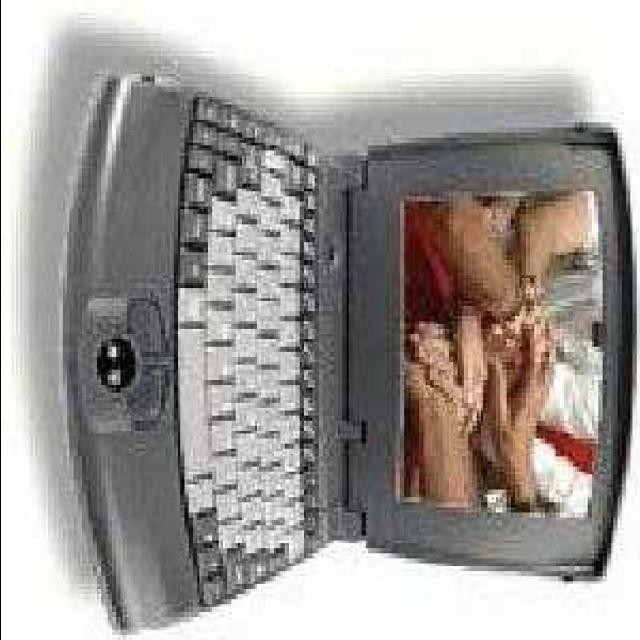laptop: (99, 109, 610, 572)
